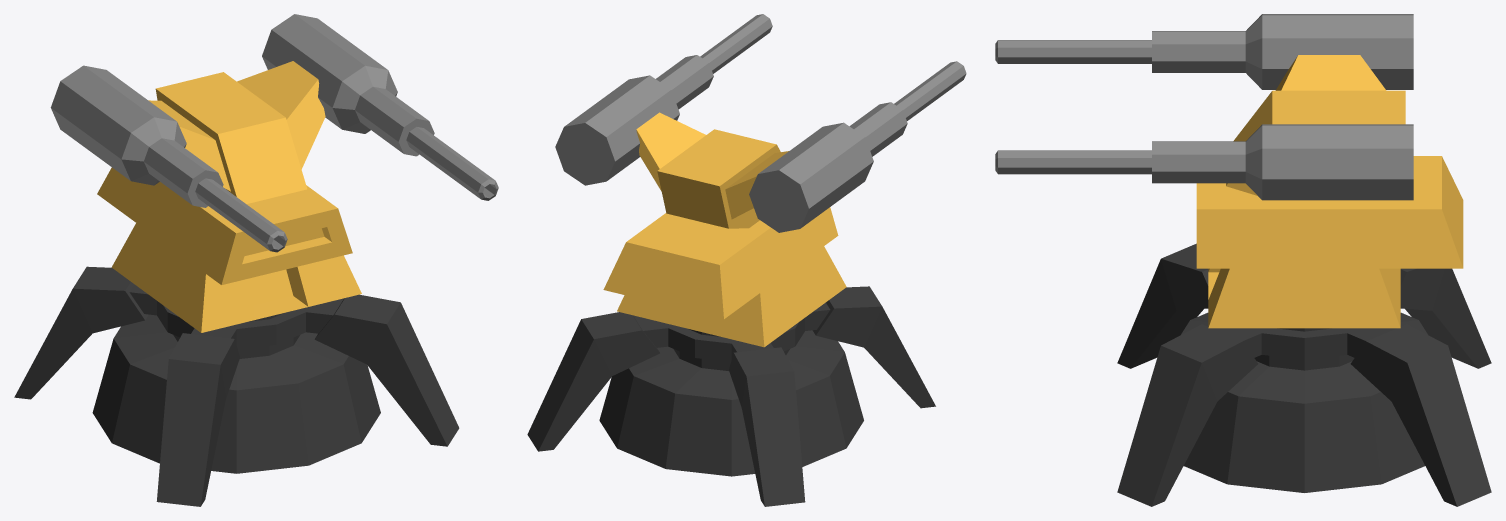
File: Turrets_2.fbx
3 renders of one model, left to right at view 1: azimuth 30°, elevation 25°; view 2: azimuth 150°, elevation 25°; view 3: azimuth 270°, elevation 25°, orthographic. The views are drawn at different scales.
Visible parts, largest first — view 1: Turret_7.001, Turret_7.003, Turret_7.002; view 2: Turret_7.001, Turret_7.003, Turret_7.002; view 3: Turret_7.001, Turret_7.003, Turret_7.002.
Boxes of the visible parts, x1=… form: Turret_7.001: x1=14, y1=266, x2=459, y2=506; Turret_7.003: x1=97, y1=61, x2=361, y2=332; Turret_7.002: x1=50, y1=14, x2=498, y2=252; Turret_7.001: x1=527, y1=286, x2=935, y2=506; Turret_7.003: x1=603, y1=112, x2=846, y2=347; Turret_7.002: x1=555, y1=14, x2=966, y2=232; Turret_7.001: x1=1117, y1=243, x2=1491, y2=506; Turret_7.003: x1=1196, y1=55, x2=1463, y2=328; Turret_7.002: x1=995, y1=14, x2=1413, y2=200.
Size of the model in its own units: 2.42 by 2.56 by 3.21.
